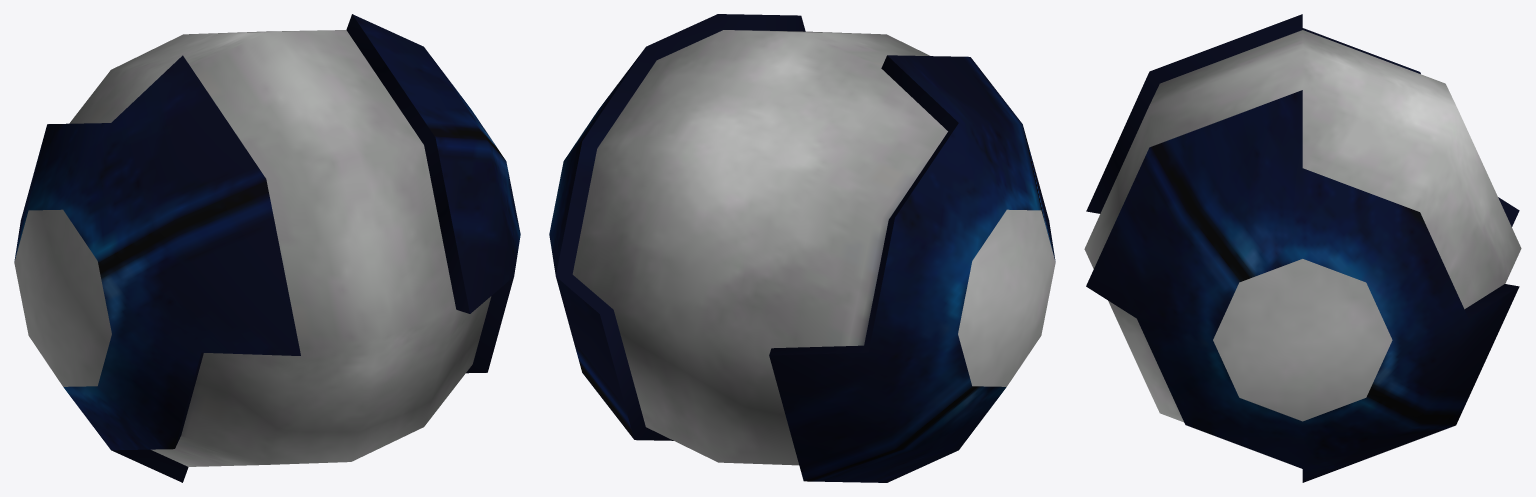
File: bomb.obj
The picture shows the model from 3 angles, left to right: view 1: azimuth 30°, elevation 25°; view 2: azimuth 150°, elevation 25°; view 3: azimuth 270°, elevation 25°; orthographic projection. The views are drawn at different scales.
Parts seen in each view (by area): view 1: Mesh0; view 2: Mesh0; view 3: Mesh0.
Boxes of the visible parts, box(x1,y1,x2,y2) form: Mesh0: box(14, 14, 520, 482); Mesh0: box(549, 14, 1055, 482); Mesh0: box(1084, 14, 1521, 482).
Bounding box in the file's own units: 7.2 × 6.71 × 6.7.
